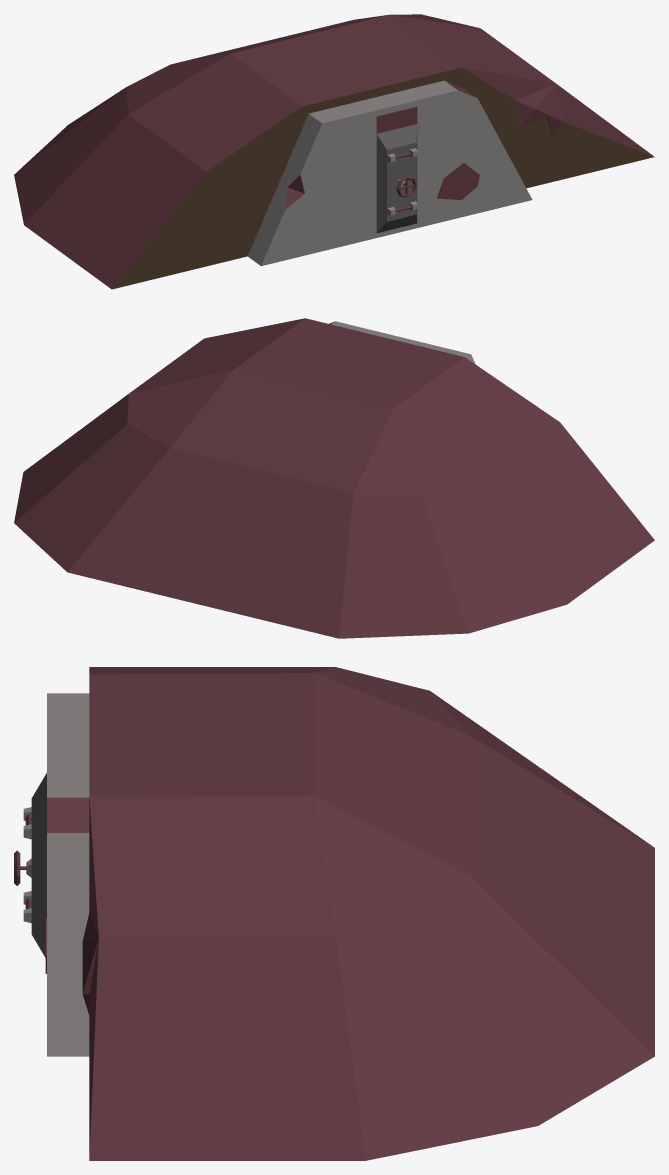
File: bunker-hill.fbx
3 renders of one model, top to bottom at view 1: azimuth 30°, elevation 25°; view 2: azimuth 150°, elevation 25°; view 3: azimuth 270°, elevation 25°, orthographic. The views are drawn at different scales.
Parts seen in each view (by area): view 1: bunker-medium-hill-base, bunker-medium-hill-door; view 2: bunker-medium-hill-base; view 3: bunker-medium-hill-base, bunker-medium-hill-door.
Part boxes in pixels (left/top/right/bottom): bunker-medium-hill-base: left=14, top=14, right=654, bottom=289; bunker-medium-hill-door: left=376, top=124, right=417, bottom=232; bunker-medium-hill-base: left=14, top=318, right=654, bottom=638; bunker-medium-hill-base: left=45, top=667, right=654, bottom=1160; bunker-medium-hill-door: left=14, top=773, right=46, bottom=957.
Size of the model in its own units: 12 by 4.4 by 7.79.
